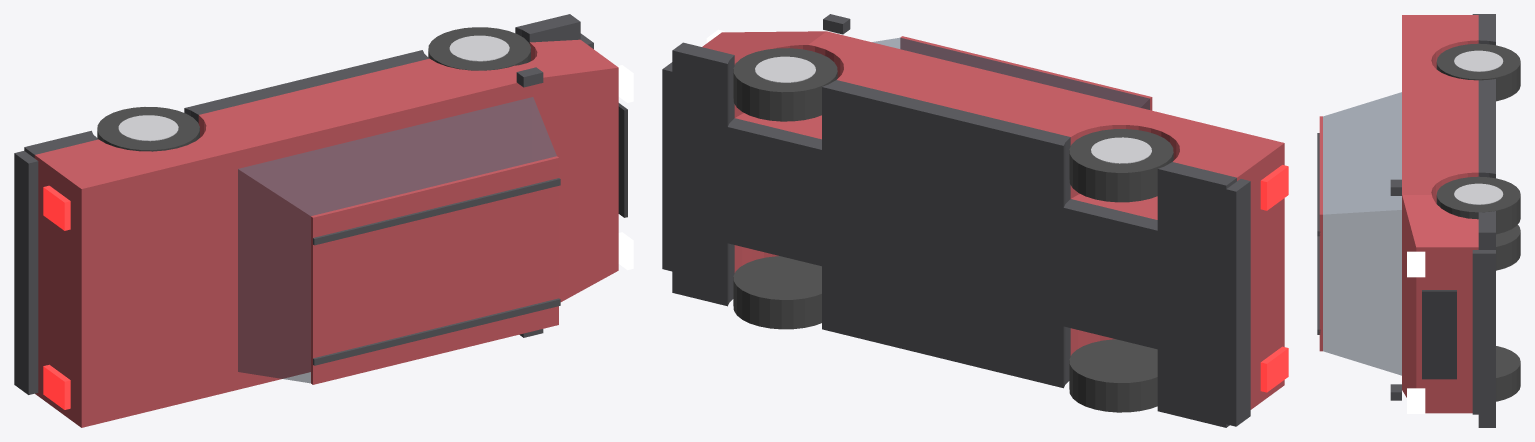
The model's file is toyota-rav4-2024-lowpoly.glb.
3 renders of one model, left to right at view 1: azimuth 30°, elevation 25°; view 2: azimuth 150°, elevation 25°; view 3: azimuth 270°, elevation 25°, orthographic. The views are drawn at different scales.
Visible parts, largest first — view 1: body_lower, roof, greenhouse_glass, hood, bumper_rear, cladding, wheel_RR_tire, wheel_FR_tire, roof_rail_L, roof_rail_R, wheel_FR_rim, wheel_RR_rim (+3 smaller); view 2: cladding, body_lower, bumper_rear, wheel_FL_tire, wheel_RL_tire, wheel_RR_tire, wheel_FR_tire, roof, greenhouse_glass, hood, bumper_front, wheel_RR_rim (+3 smaller); view 3: greenhouse_glass, body_lower, hood, bumper_front, cladding, grille, wheel_FR_tire, wheel_RR_tire, wheel_FL_tire, roof, wheel_RL_tire, wheel_RR_rim (+5 smaller).
Part boxes in pixels (x1,y1,x2,y2): body_lower: (34, 58, 532, 427); roof: (311, 156, 558, 384); greenhouse_glass: (238, 97, 556, 383); hood: (514, 39, 618, 301); bumper_rear: (14, 151, 38, 394); cladding: (24, 14, 580, 157); wheel_RR_tire: (97, 107, 199, 151); wheel_FR_tire: (428, 27, 530, 70); roof_rail_L: (313, 298, 560, 365); roof_rail_R: (313, 178, 560, 245); wheel_FR_rim: (449, 35, 509, 61); wheel_RR_rim: (118, 115, 178, 141); cladding: (672, 42, 1236, 427); body_lower: (780, 31, 1284, 409); bumper_rear: (1226, 179, 1250, 426); wheel_FL_tire: (733, 256, 821, 329); wheel_RL_tire: (1069, 339, 1157, 412); wheel_RR_tire: (1069, 129, 1173, 202); wheel_FR_tire: (733, 48, 837, 121); roof: (900, 36, 1152, 110); greenhouse_glass: (872, 37, 1149, 109); hood: (702, 31, 826, 272); bumper_front: (662, 62, 672, 271); wheel_RR_rim: (1091, 137, 1151, 163); greenhouse_glass: (1323, 92, 1401, 375); body_lower: (1402, 15, 1478, 203); hood: (1402, 195, 1478, 413); bumper_front: (1472, 250, 1495, 414); cladding: (1478, 15, 1495, 427); grille: (1422, 290, 1456, 379); wheel_FR_tire: (1436, 176, 1520, 234); wheel_RR_tire: (1436, 43, 1520, 101); wheel_FL_tire: (1496, 346, 1520, 401); roof: (1319, 116, 1322, 351); wheel_RL_tire: (1496, 225, 1520, 270); wheel_RR_rim: (1454, 50, 1503, 71).
Size of the model in its own units: 4.62 by 2.02 by 1.75.
